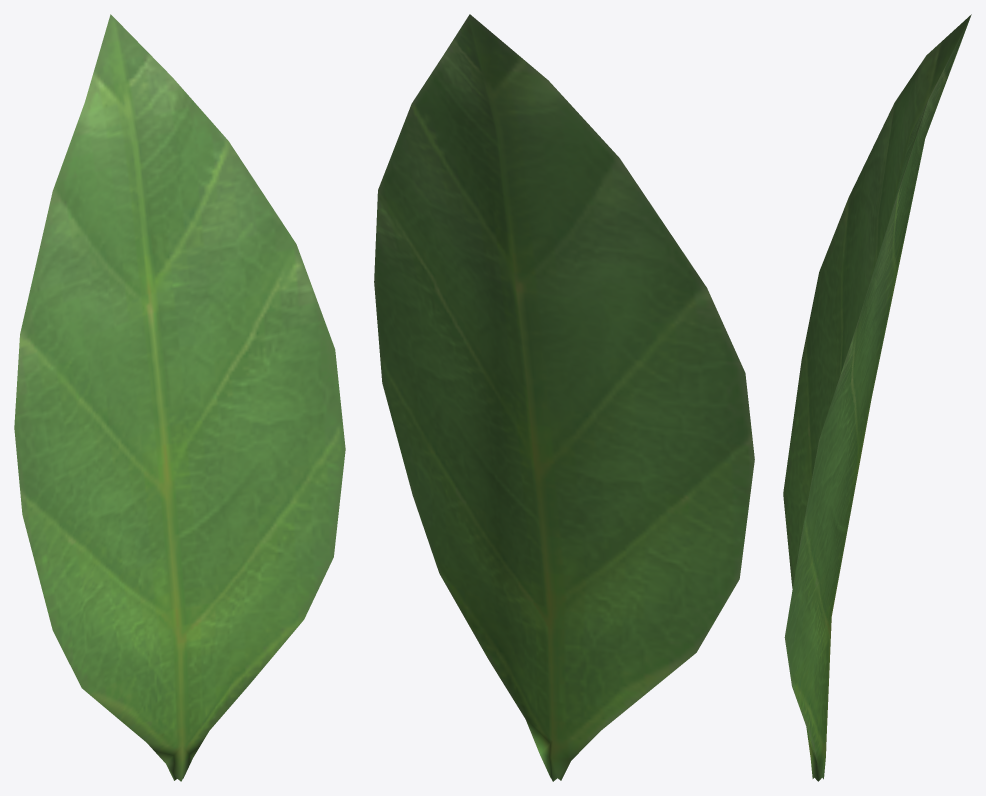
Rendered from ref_mesh_CrownLeaf_Lod1.dae.
3 views of the same model, side by side, from view 1: azimuth 30°, elevation 25°; view 2: azimuth 150°, elevation 25°; view 3: azimuth 270°, elevation 25° (orthographic). The views are drawn at different scales.
Parts seen in each view (by area): view 1: ref_mesh_CrownLeaf_Lod1; view 2: ref_mesh_CrownLeaf_Lod1; view 3: ref_mesh_CrownLeaf_Lod1.
Part boxes in pixels (x1,y1,x2,y2): ref_mesh_CrownLeaf_Lod1: (14,14,345,781); ref_mesh_CrownLeaf_Lod1: (374,14,754,781); ref_mesh_CrownLeaf_Lod1: (783,14,971,781).
Size of the model in its own units: 0.052 by 0.0245 by 0.1098.
1 material, 1 textured.
